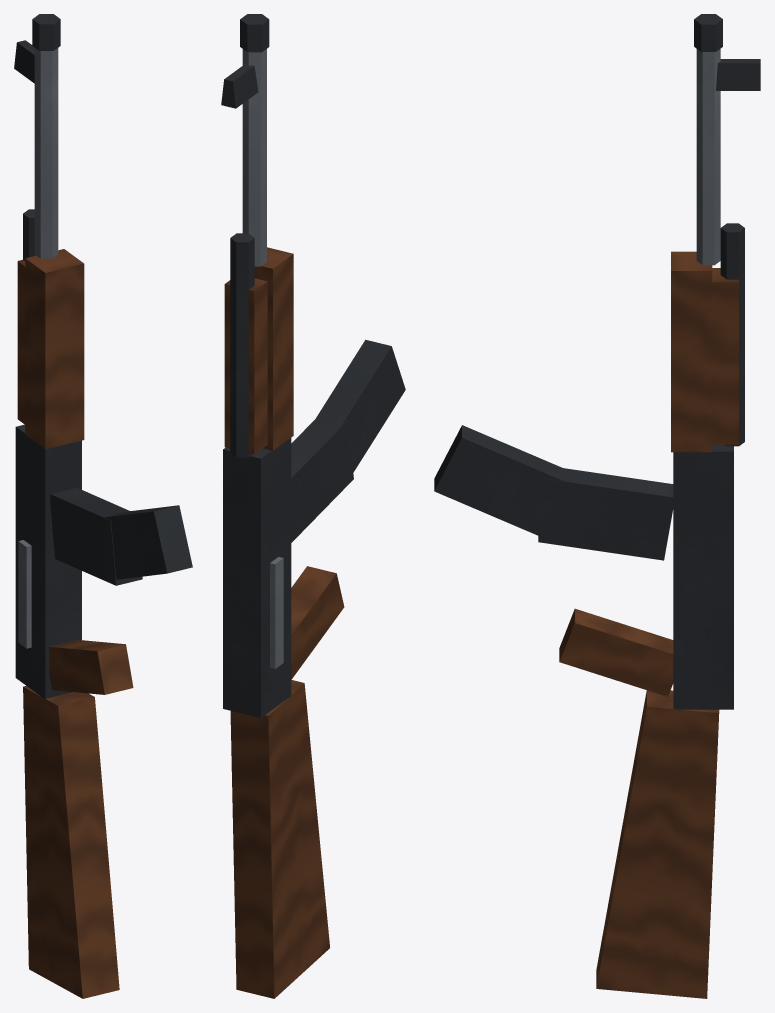
File: weapon_ak47.glb
The picture shows the model from 3 angles, left to right: view 1: azimuth 30°, elevation 25°; view 2: azimuth 150°, elevation 25°; view 3: azimuth 270°, elevation 25°; orthographic projection. The views are drawn at different scales.
Parts seen in each view (by area): view 1: Weapon_AK47; view 2: Weapon_AK47; view 3: Weapon_AK47.
Part boxes in pixels (<box>): Weapon_AK47: <box>14,14,192,998</box>; Weapon_AK47: <box>221,14,405,998</box>; Weapon_AK47: <box>434,14,760,998</box>.
Size of the model in its own units: 0.0425 by 0.8839 by 0.2695.
Materials: 3 (3 with a texture image).
